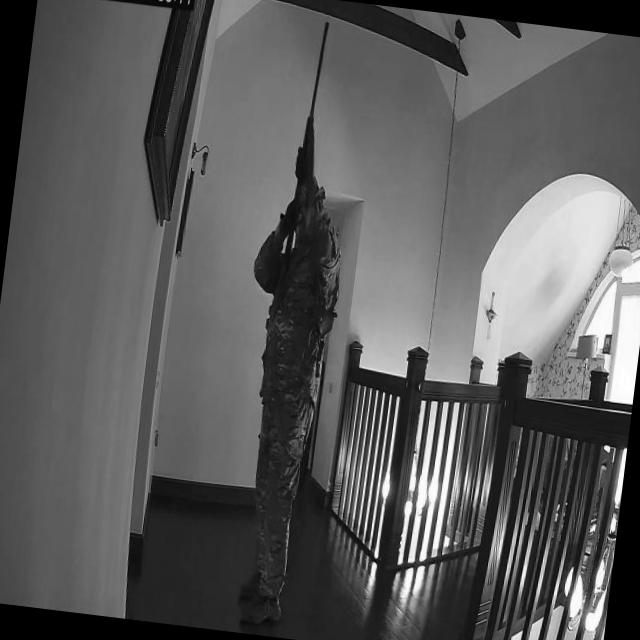gun: (276, 16, 330, 276)
person with a gun: (208, 11, 374, 630)
